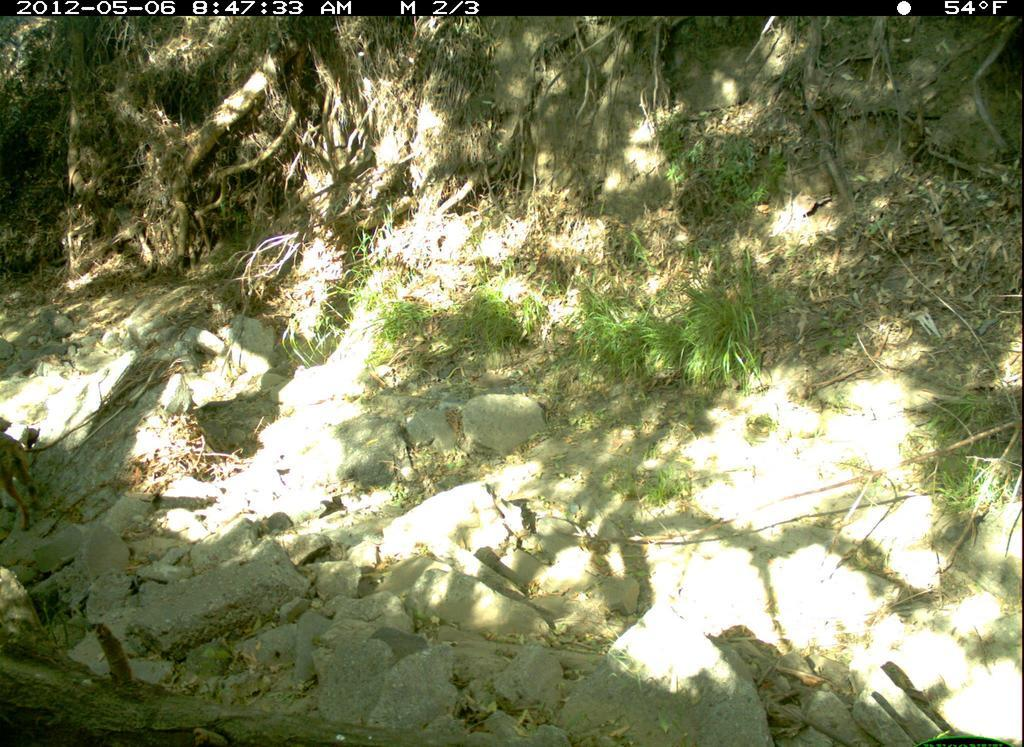coyote: (1, 419, 54, 537)
